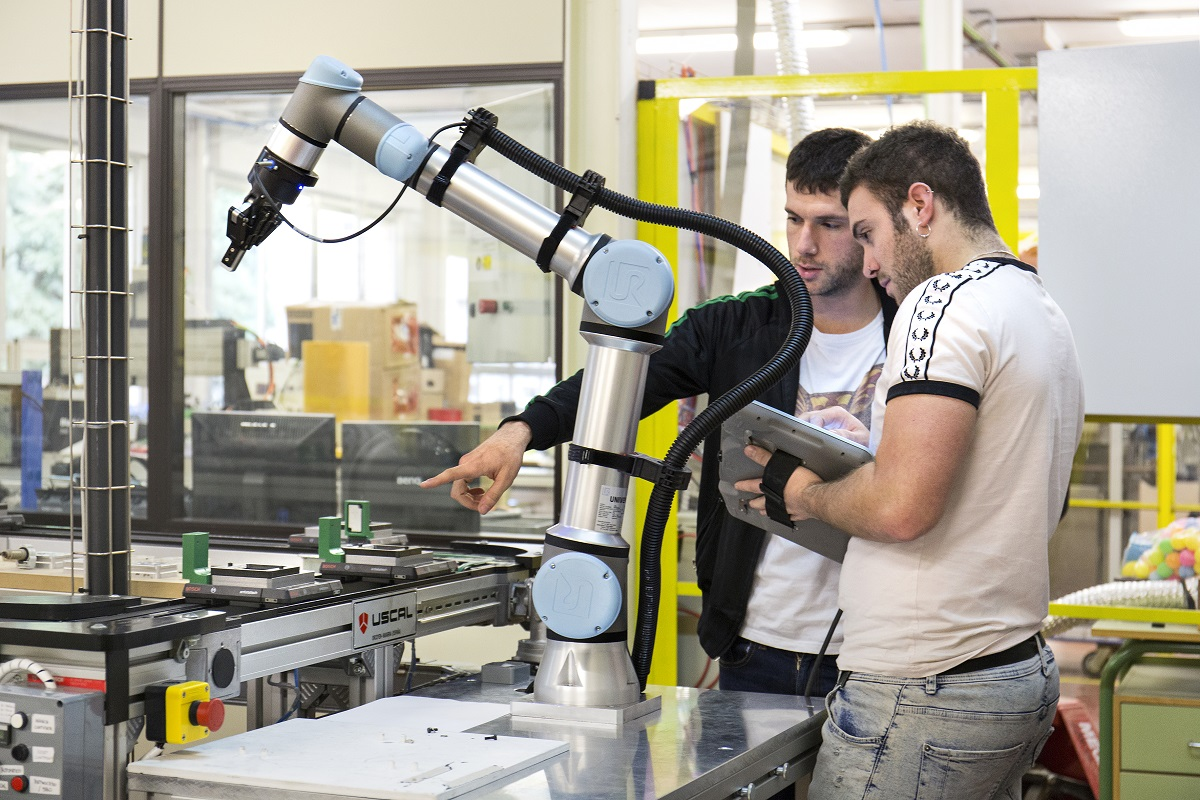person: (417, 128, 901, 696), (733, 122, 1087, 800)
robot: (222, 59, 679, 722)
